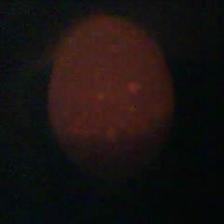fertile: (44, 10, 176, 174)
